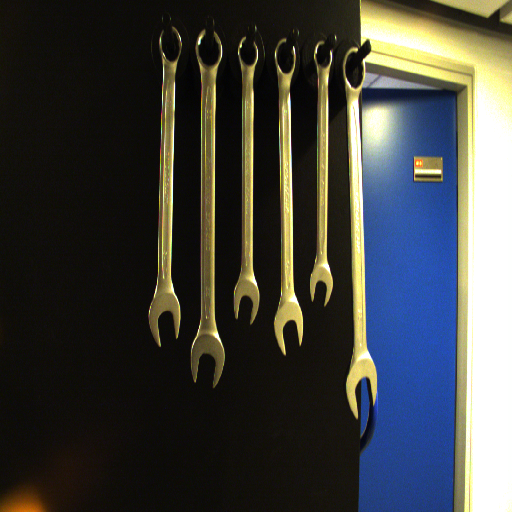bottom: (184, 332, 230, 390), (343, 355, 381, 421), (146, 291, 184, 349), (272, 304, 307, 358), (229, 279, 263, 327), (304, 263, 335, 308)
top: (339, 46, 369, 93), (193, 27, 224, 69), (272, 35, 298, 76), (158, 24, 183, 63), (235, 35, 260, 69), (312, 36, 334, 72)
